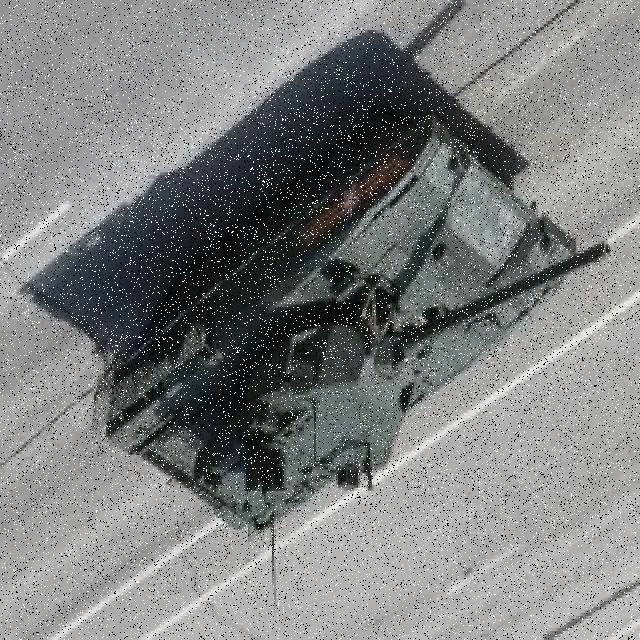MIL_MBT: (91, 101, 611, 543)
